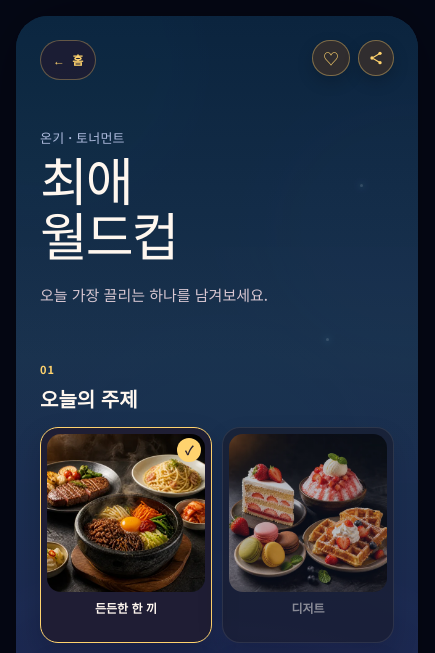
Test: 놀이와 도구 링크 공유 › 최애 월드컵 카테고리마다 좋아요를 따로 유지한다
Click the button named "좋아요 추가 · 현재 0개" at (331, 58), box [312,40,350,76]
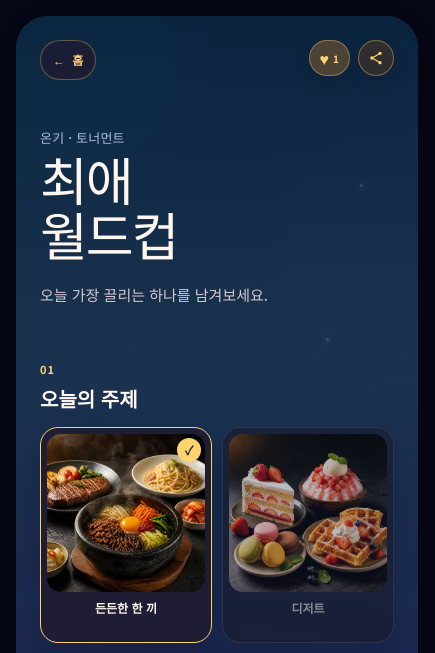
Expected: the button named "좋아요 취소 · 현재 1개" is shown, [309,40,350,76]
Click the button "디저트" at (308, 535), box [222,427,394,643]
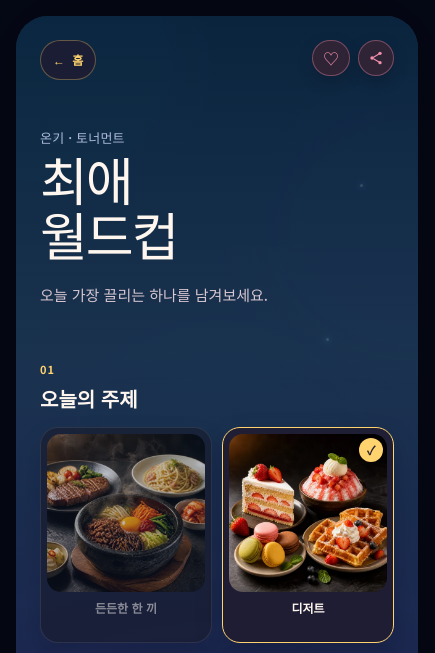
Expected: the button named "좋아요 추가 · 현재 0개" is shown, [312,40,350,76]
